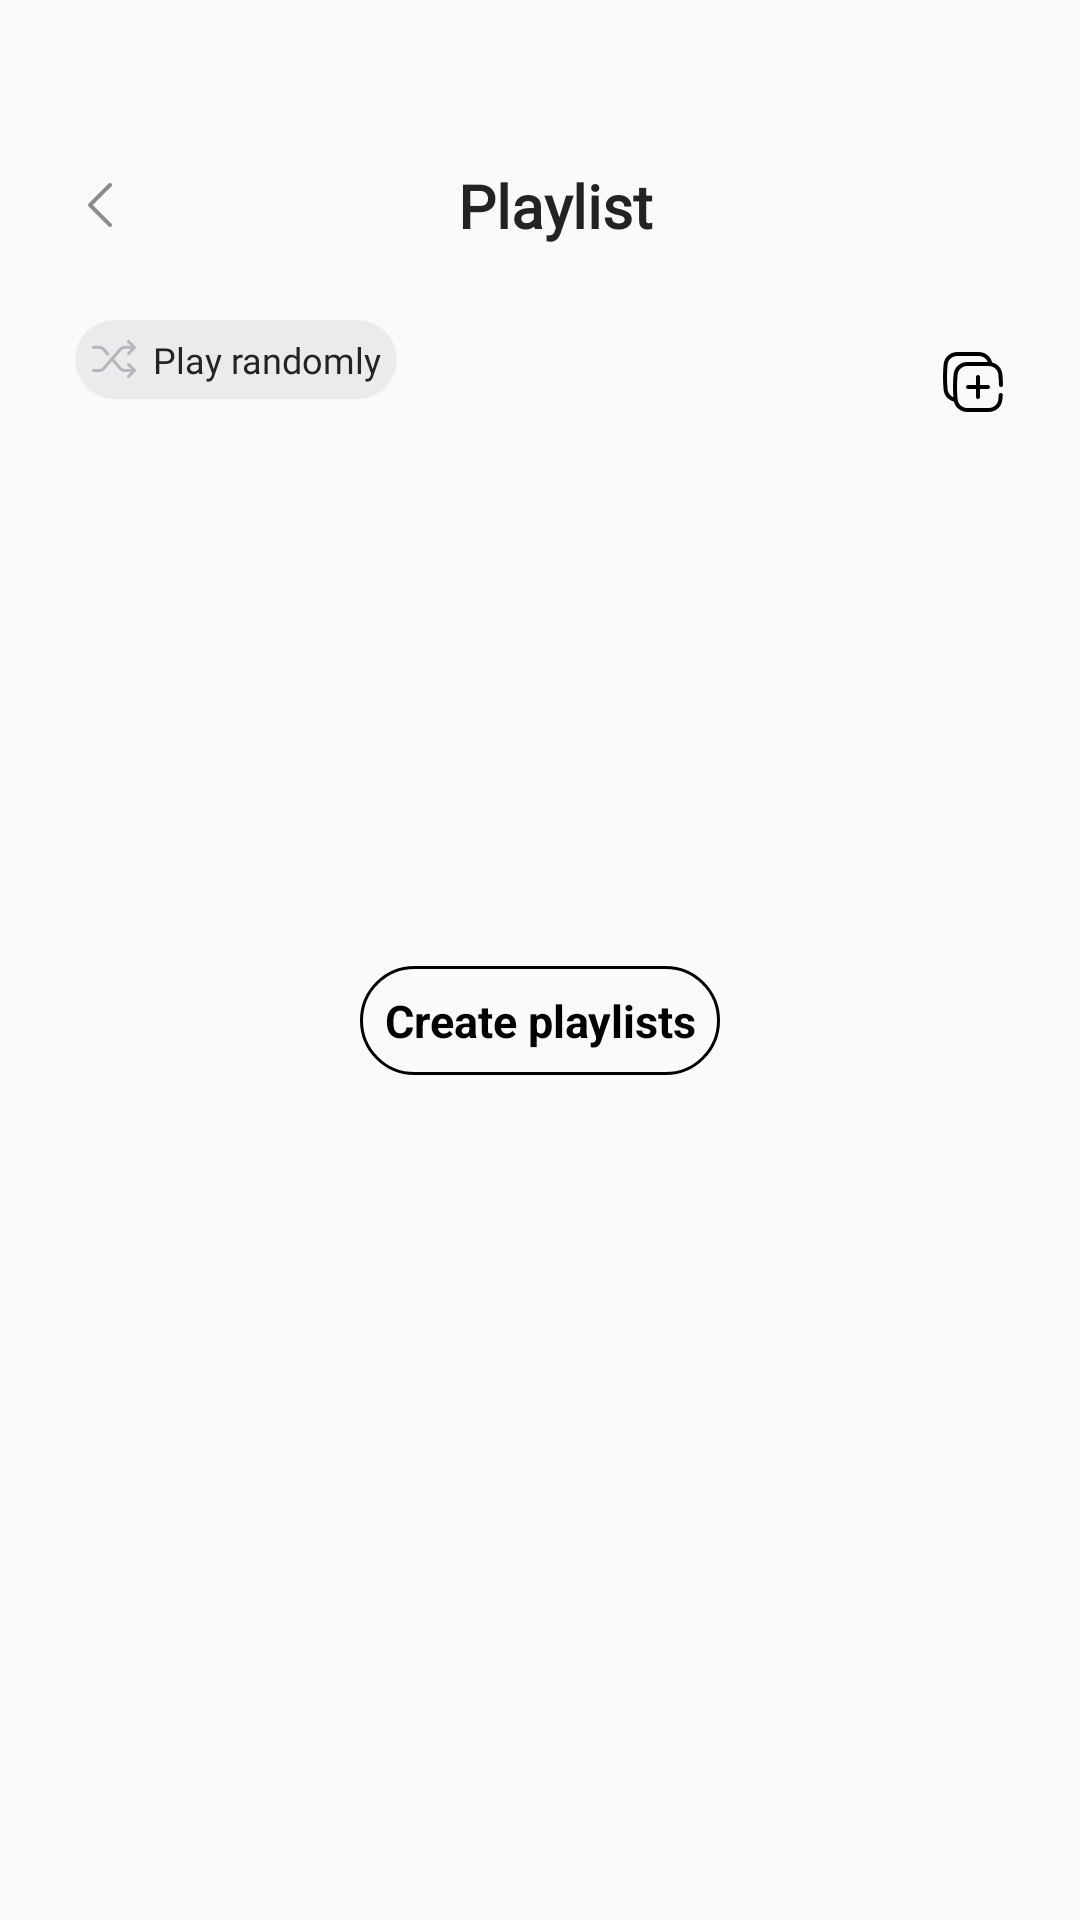

Where to tap for icons on this 1080x1920 app screen, as (x=x, y=y):
add: (x=973, y=382)
back: (x=100, y=205)
